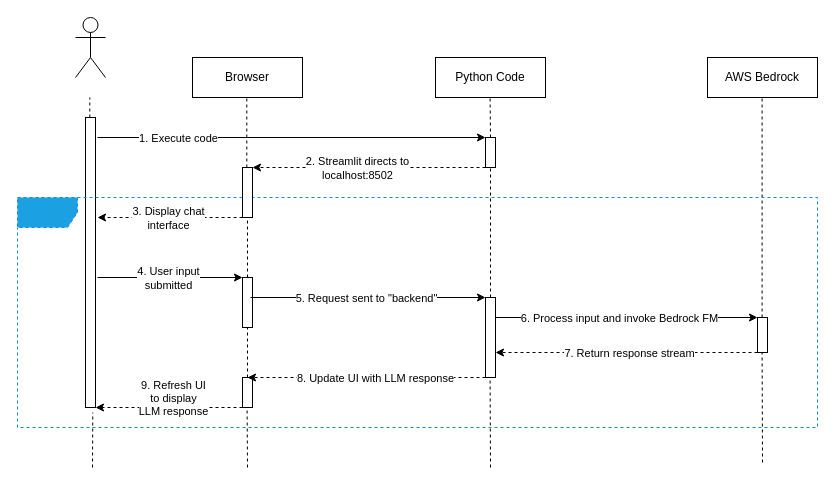
This 835x486 diagram has some shape labels left out. The shapes that lost their labels are listed below. From the top down, each one's centre as x and y in pixels, then its label:
At pixel 90 47: "Actor".
At pixel 417 312: "loop".
